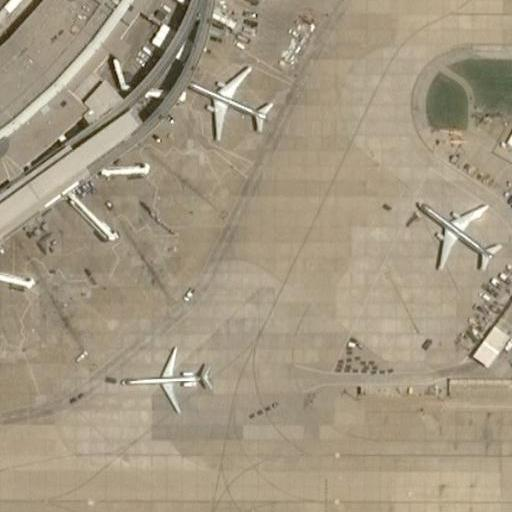Aircraft: (183, 56, 283, 144), (410, 189, 503, 279), (120, 338, 218, 418)
